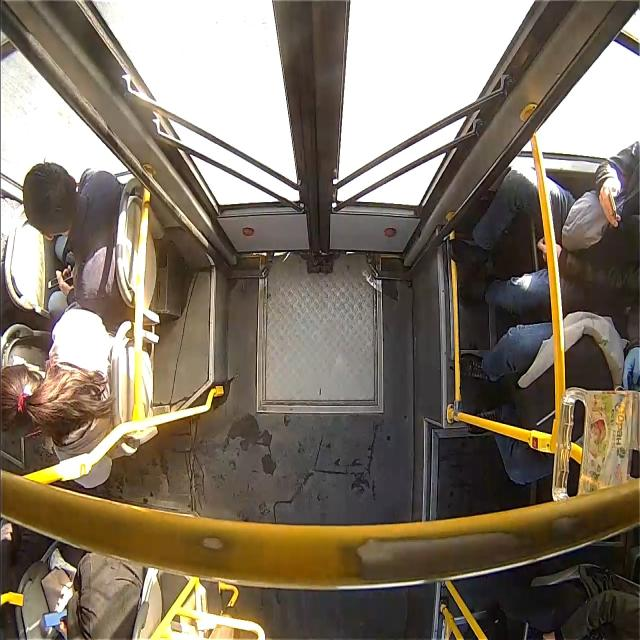bus-door: (2, 0, 636, 267)
